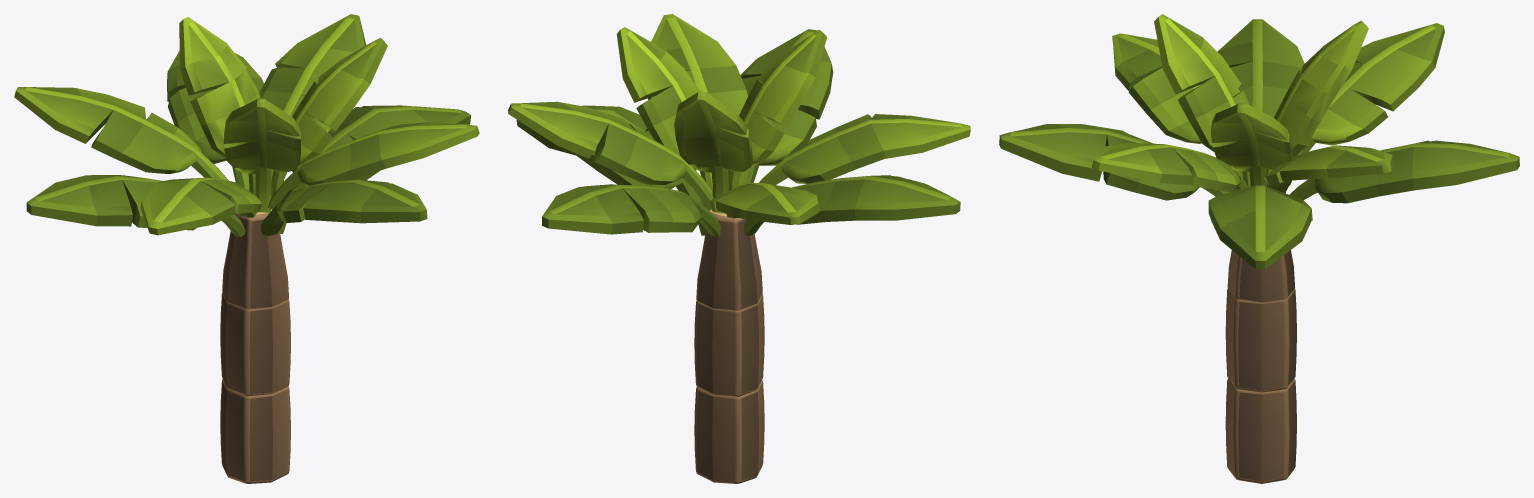
File: banana_tree_big_LOD_group.fbx
The picture shows the model from 3 angles, left to right: view 1: azimuth 30°, elevation 25°; view 2: azimuth 150°, elevation 25°; view 3: azimuth 270°, elevation 25°; orthographic projection. The views are drawn at different scales.
Parts seen in each view (by area): view 1: banana_tree_big_LOD0; view 2: banana_tree_big_LOD0; view 3: banana_tree_big_LOD0.
Part boxes in pixels (<box>): banana_tree_big_LOD0: <box>14,14,479,483</box>; banana_tree_big_LOD0: <box>508,14,970,483</box>; banana_tree_big_LOD0: <box>999,14,1519,483</box>.
Size of what is drawn, in the model's own units: 528 by 486 by 521.
Materials: 1 (1 with a texture image).
